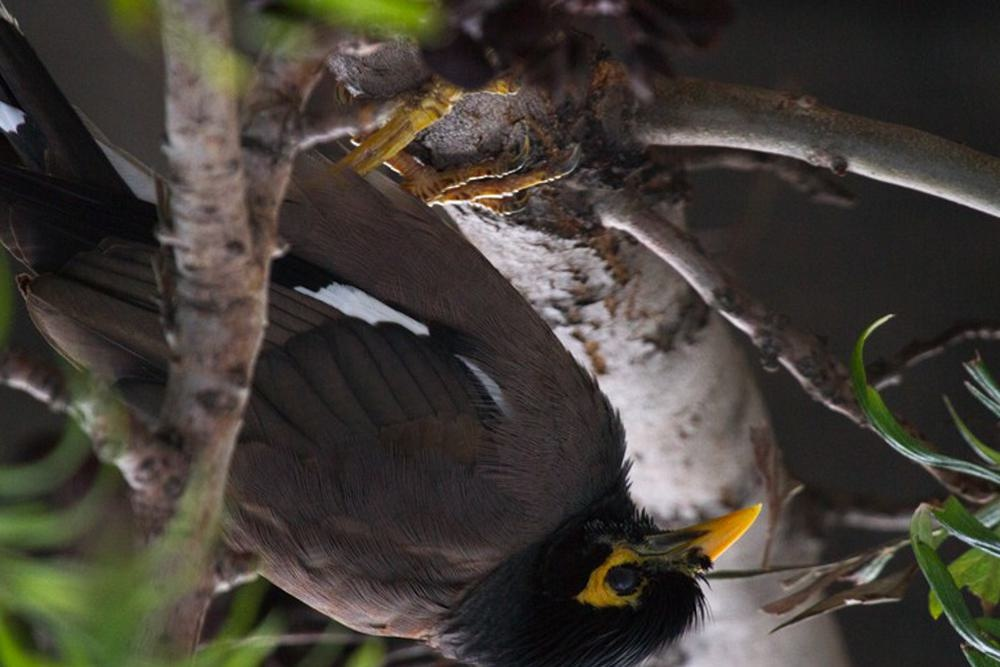myna: (102, 94, 763, 660)
